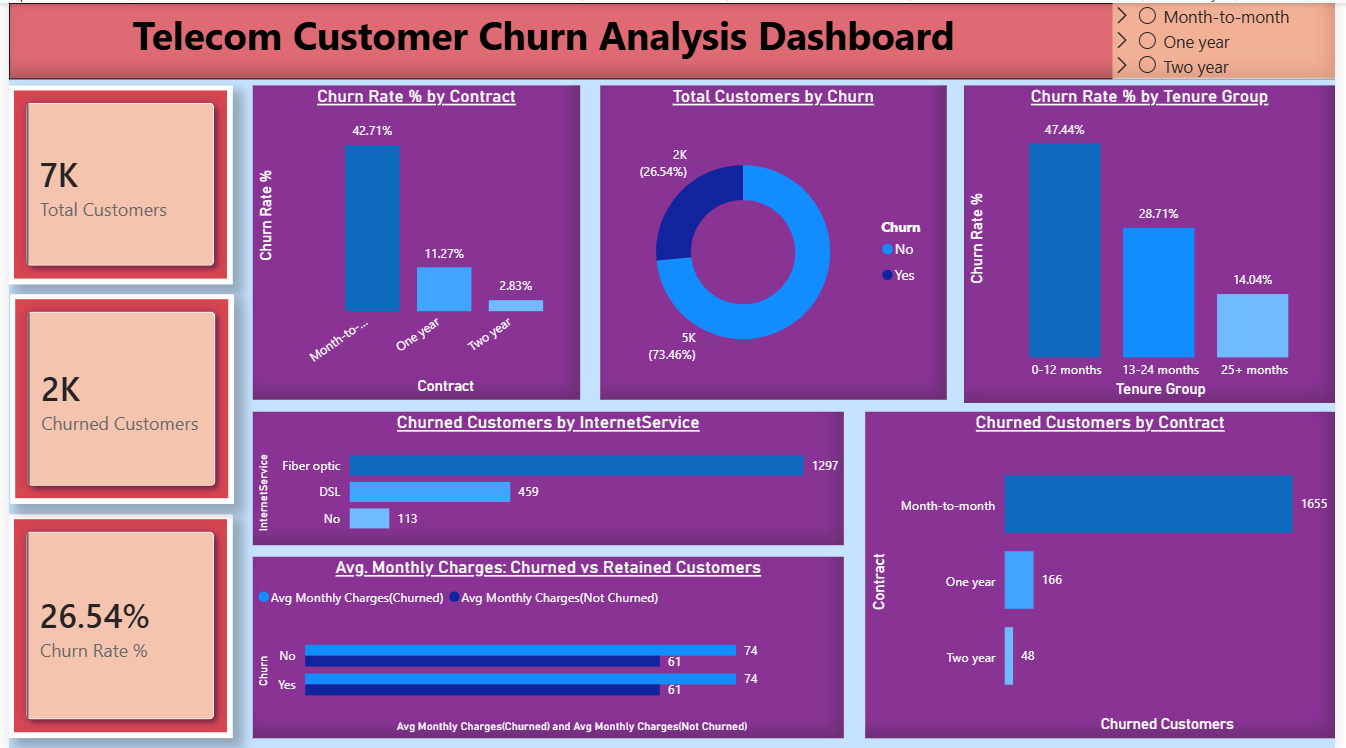

Layout of this report page (visuals, bound fields, positions):
{"tool":"powerbi","page":{"name":"Dashboard","canvas":[1280,720],"ordinal":0},"visuals":[{"type":"cardVisual","fields":{"Data":["WA_Fn-UseC_-Telco-Customer-Churn.Total Customers"]},"box":[0,79.6,216,191.8],"z":0},{"type":"cardVisual","fields":{"Data":["WA_Fn-UseC_-Telco-Customer-Churn.Churn Rate %"]},"box":[0,493.4,216,216],"z":1000},{"type":"cardVisual","fields":{"Data":["WA_Fn-UseC_-Telco-Customer-Churn.Churned Customers"]},"box":[1.2,281.1,216,202.7],"z":2000},{"type":"donutChart","fields":{"Category":["WA_Fn-UseC_-Telco-Customer-Churn.Churn"],"Y":["WA_Fn-UseC_-Telco-Customer-Churn.Total Customers"]},"box":[570.6,79.6,334.2,302.8],"z":3000},{"type":"clusteredBarChart","fields":{"Category":["WA_Fn-UseC_-Telco-Customer-Churn.Contract"],"Y":["WA_Fn-UseC_-Telco-Customer-Churn.Churned Customers"]},"box":[826.4,394.5,453.6,314.9],"z":4000},{"type":"clusteredColumnChart","fields":{"Category":["WA_Fn-UseC_-Telco-Customer-Churn.Tenure Group"],"Y":["WA_Fn-UseC_-Telco-Customer-Churn.Churn Rate %"]},"box":[921.7,79.6,358.3,306.4],"z":5000},{"type":"clusteredBarChart","fields":{"Category":["WA_Fn-UseC_-Telco-Customer-Churn.InternetService"],"Y":["WA_Fn-UseC_-Telco-Customer-Churn.Churned Customers"]},"box":[235.3,394.5,570.6,129.1],"z":6000},{"type":"clusteredColumnChart","fields":{"Category":["WA_Fn-UseC_-Telco-Customer-Churn.Contract"],"Y":["WA_Fn-UseC_-Telco-Customer-Churn.Churn Rate %"]},"box":[235.3,79.6,316.1,302.8],"z":7000},{"type":"clusteredBarChart","title":"Avg. Monthly Charges: Churned vs Retained Customers","fields":{"Category":["WA_Fn-UseC_-Telco-Customer-Churn.Churn"],"Y":["WA_Fn-UseC_-Telco-Customer-Churn.Avg Monthly Charges(Churned)","WA_Fn-UseC_-Telco-Customer-Churn.Avg Monthly Charges(Not Churned)"]},"box":[235.3,534.5,570.6,174.9],"z":8000},{"type":"textbox","box":[0,0,1280,73.6],"z":9000},{"type":"listSlicer","fields":{"Values":["WA_Fn-UseC_-Telco-Customer-Churn.Contract","WA_Fn-UseC_-Telco-Customer-Churn.InternetService","WA_Fn-UseC_-Telco-Customer-Churn.Tenure Group"]},"box":[1065.3,0,214.7,73.6],"z":10000}]}

Visuals, with their boxes in screenshot pixels (x1, y1, x2, y2), scaled from the page's 1280x720 canvas onto the 1346x748 screenshot:
cardVisual - WA_Fn-UseC_-Telco-Customer-Churn.Total Customers: bbox=[0, 83, 227, 282]
cardVisual - WA_Fn-UseC_-Telco-Customer-Churn.Churn Rate %: bbox=[0, 513, 227, 737]
cardVisual - WA_Fn-UseC_-Telco-Customer-Churn.Churned Customers: bbox=[1, 292, 228, 503]
donutChart - WA_Fn-UseC_-Telco-Customer-Churn.Churn x WA_Fn-UseC_-Telco-Customer-Churn.Total Customers: bbox=[600, 83, 951, 397]
clusteredBarChart - WA_Fn-UseC_-Telco-Customer-Churn.Contract x WA_Fn-UseC_-Telco-Customer-Churn.Churned Customers: bbox=[869, 410, 1345, 737]
clusteredColumnChart - WA_Fn-UseC_-Telco-Customer-Churn.Tenure Group x WA_Fn-UseC_-Telco-Customer-Churn.Churn Rate %: bbox=[969, 83, 1345, 401]
clusteredBarChart - WA_Fn-UseC_-Telco-Customer-Churn.InternetService x WA_Fn-UseC_-Telco-Customer-Churn.Churned Customers: bbox=[247, 410, 847, 544]
clusteredColumnChart - WA_Fn-UseC_-Telco-Customer-Churn.Contract x WA_Fn-UseC_-Telco-Customer-Churn.Churn Rate %: bbox=[247, 83, 580, 397]
"Avg. Monthly Charges: Churned vs Retained Customers" clusteredBarChart: bbox=[247, 555, 847, 737]
textbox: bbox=[0, 0, 1345, 76]
listSlicer - WA_Fn-UseC_-Telco-Customer-Churn.Contract x WA_Fn-UseC_-Telco-Customer-Churn.InternetService: bbox=[1120, 0, 1345, 76]
